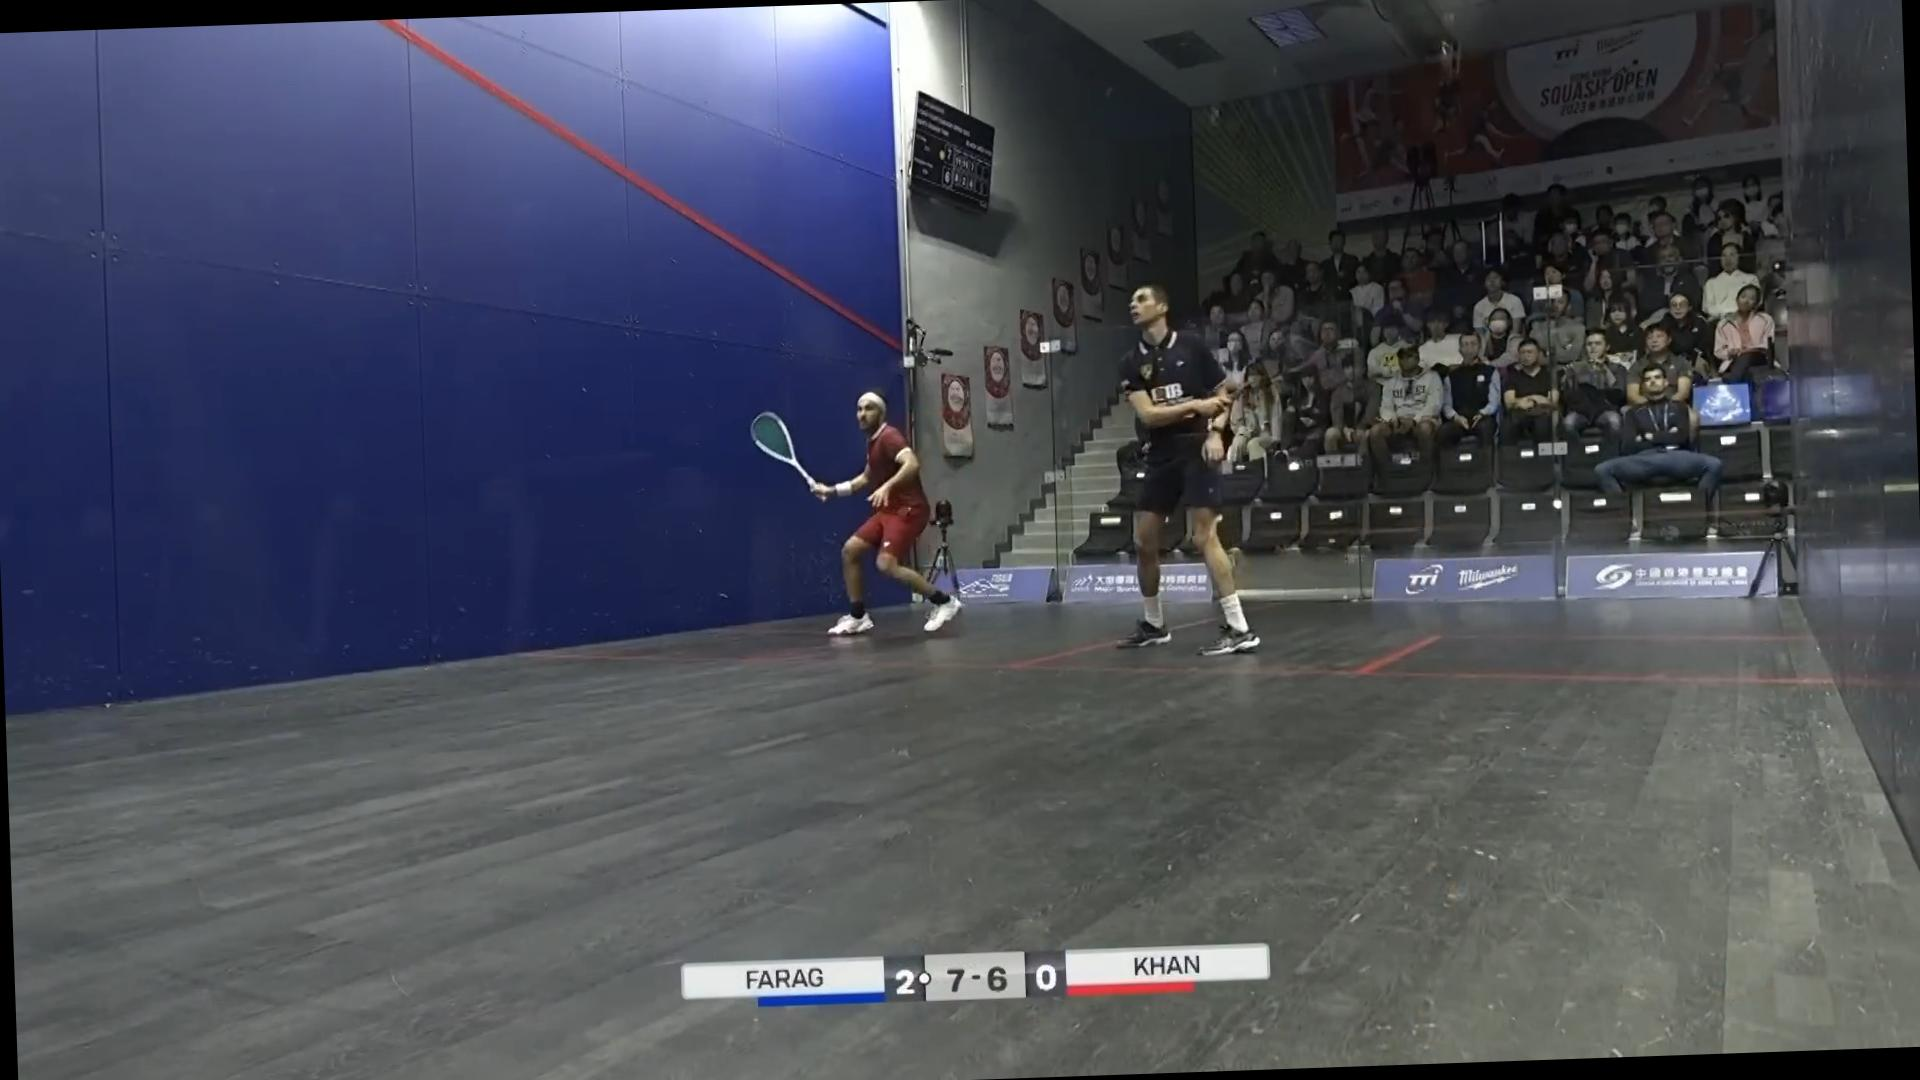Racket: (757, 388, 828, 480)
